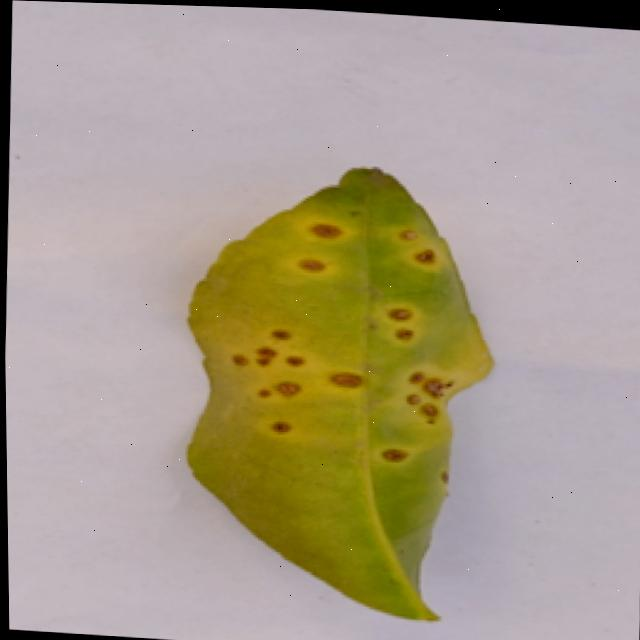canker: (189, 170, 491, 618), (230, 318, 369, 465), (372, 205, 444, 474), (287, 215, 345, 296)
